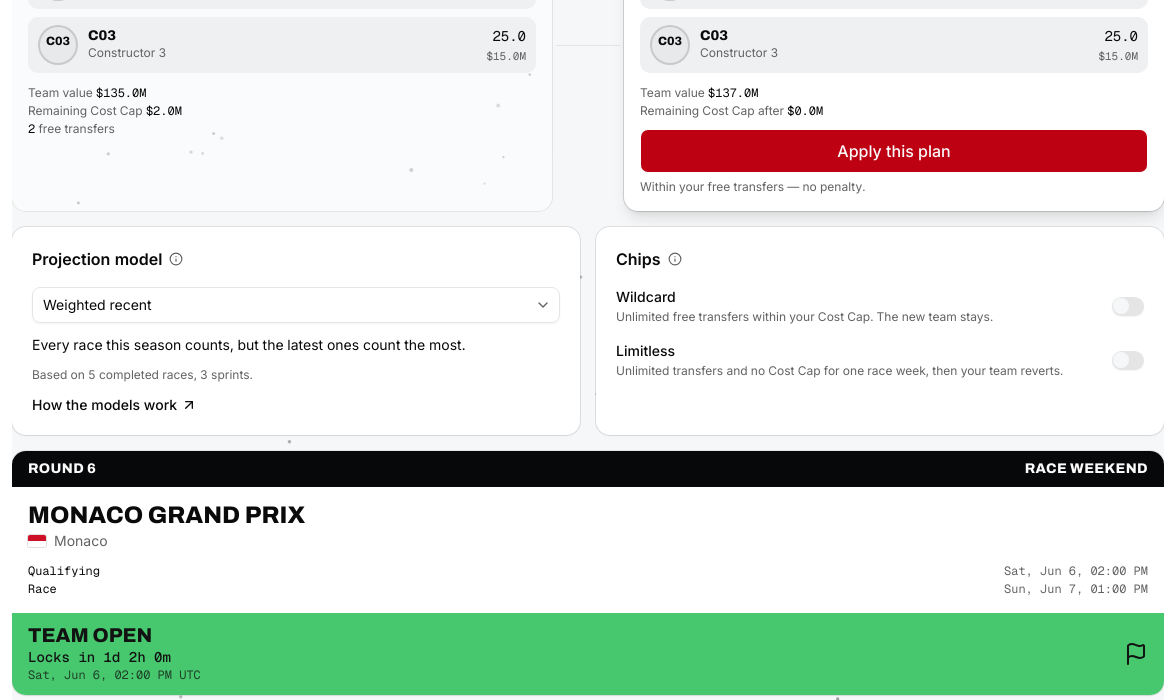
Test: OPEN — limitless what-if › shows the Limitless no-cost-cap copy with a negative Remaining Cost Cap
(page scrolled)
Click the switch named "Preview the Limitless chip": (1128, 360) [1112, 351, 1144, 370]
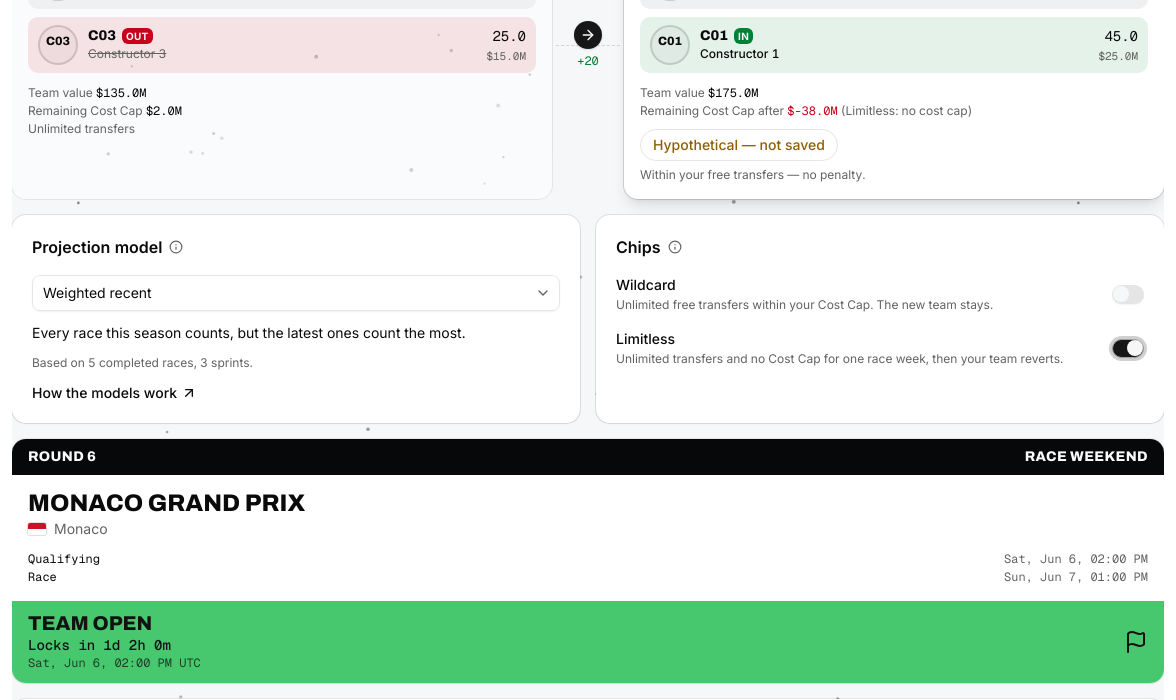
Result: the text "Remaining Cost Cap after $-38.0M (Limitless: no cost cap)" is shown at [640, 103, 972, 119]
